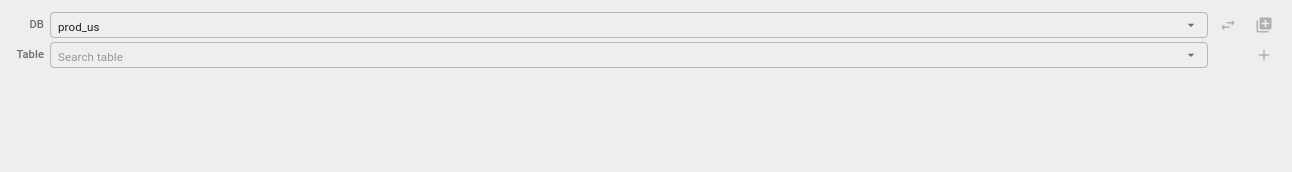
Test: TableAddPicker — add-database action › states the resolved count before the click
The image size is (1292, 172).
Press the mouse on the dropdown with placeholder "Database" at (620, 25), box [58, 12, 1182, 38]
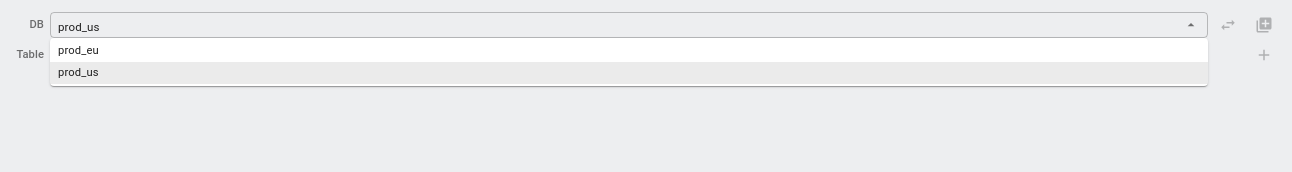
Click the option "prod_eu".
click(78, 50)  # box [58, 44, 99, 57]
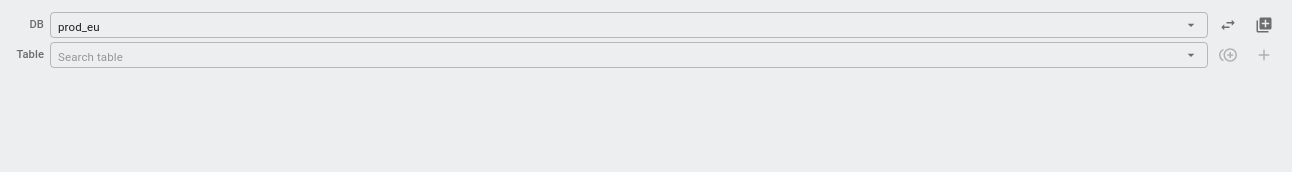
Result: the button named "Add matching tables from database" is enabled at [1251, 12, 1277, 38]
